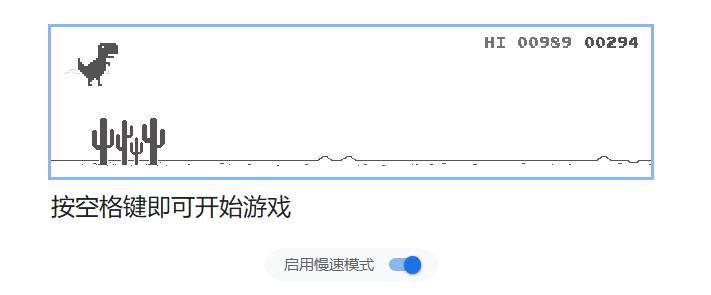cactus: (90, 116, 168, 168)
dino: (78, 42, 120, 87)
